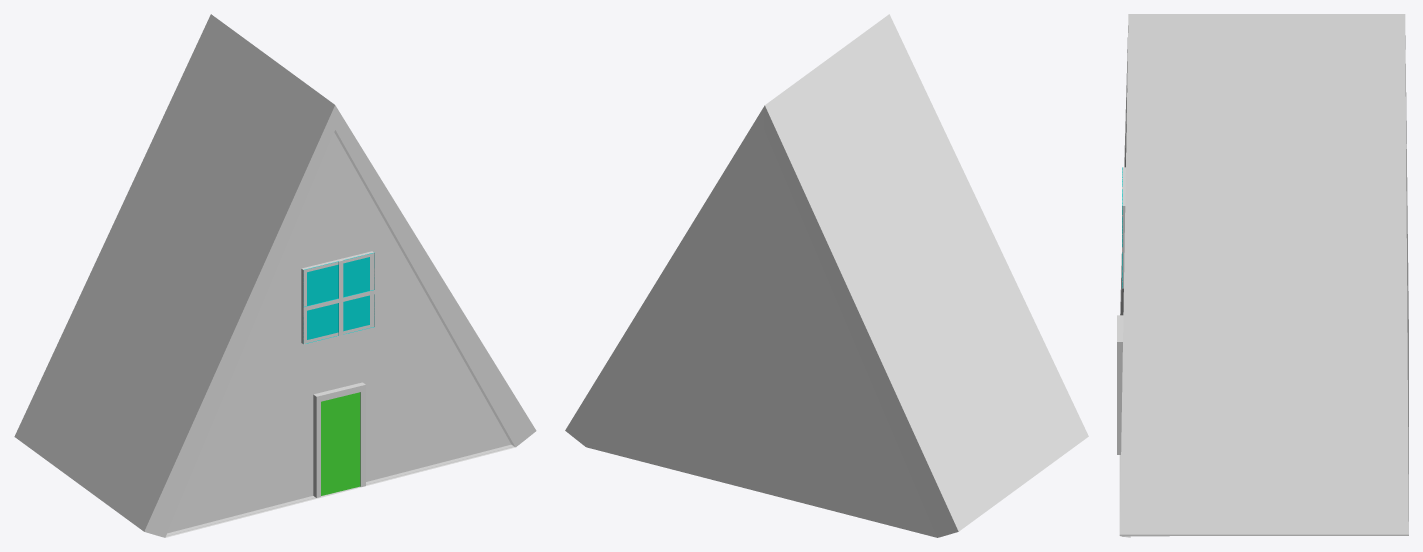
File: casa1.fbx
The picture shows the model from 3 angles, left to right: view 1: azimuth 30°, elevation 25°; view 2: azimuth 150°, elevation 25°; view 3: azimuth 270°, elevation 25°; orthographic projection. The views are drawn at different scales.
Visible parts, largest first — view 1: Cube; view 2: Cube; view 3: Cube.
Boxes of the visible parts, x1,y1,x2,y2 form: Cube: (14, 14, 536, 537); Cube: (565, 14, 1088, 537); Cube: (1117, 14, 1408, 537).
Bounding box in the file's own units: 413 × 391 × 239.
